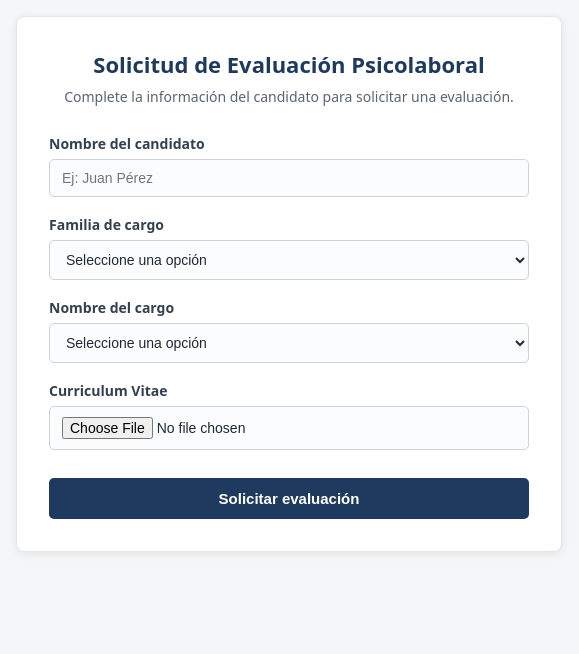
Test: SolicitudEvaluacionForm › al enviar vacío muestra un error por cada campo
Click the button "Solicitar evaluación" at (289, 498), box [49, 478, 529, 519]
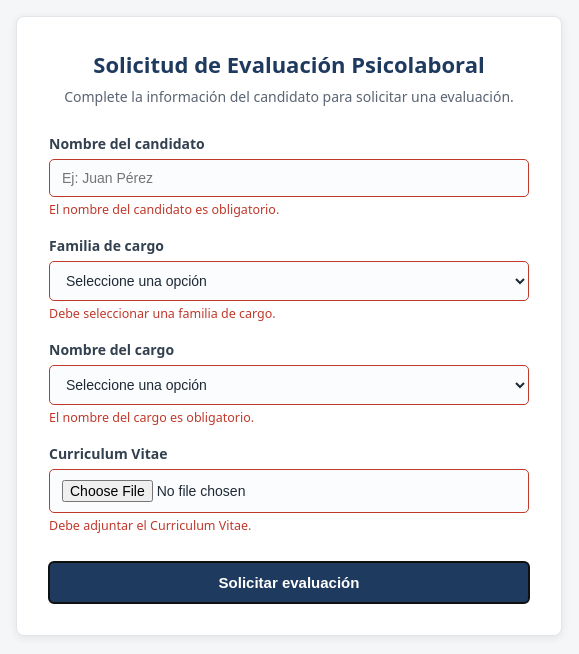
Now the text "El nombre del candidato es obligatorio." is shown, box [49, 201, 279, 218]
Now the text "Debe seleccionar una familia de cargo." is shown, box [49, 305, 276, 322]
Now the text "El nombre del cargo es obligatorio." is shown, box [49, 409, 254, 426]
